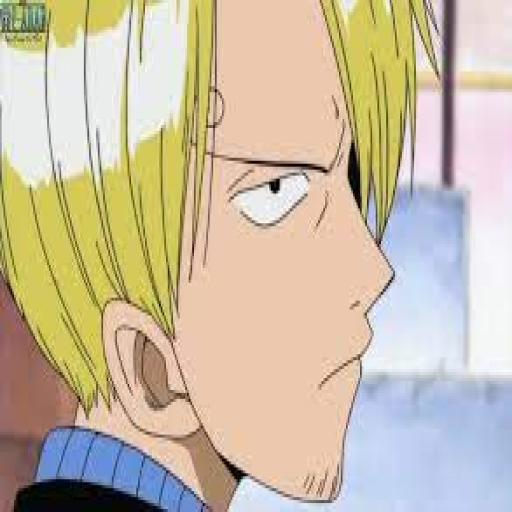sanji: (7, 0, 448, 512)
